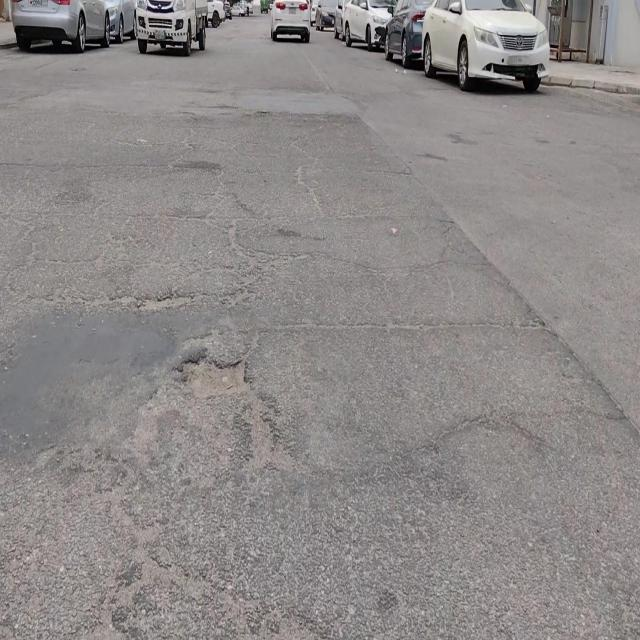Potholes: (179, 355, 250, 402)
